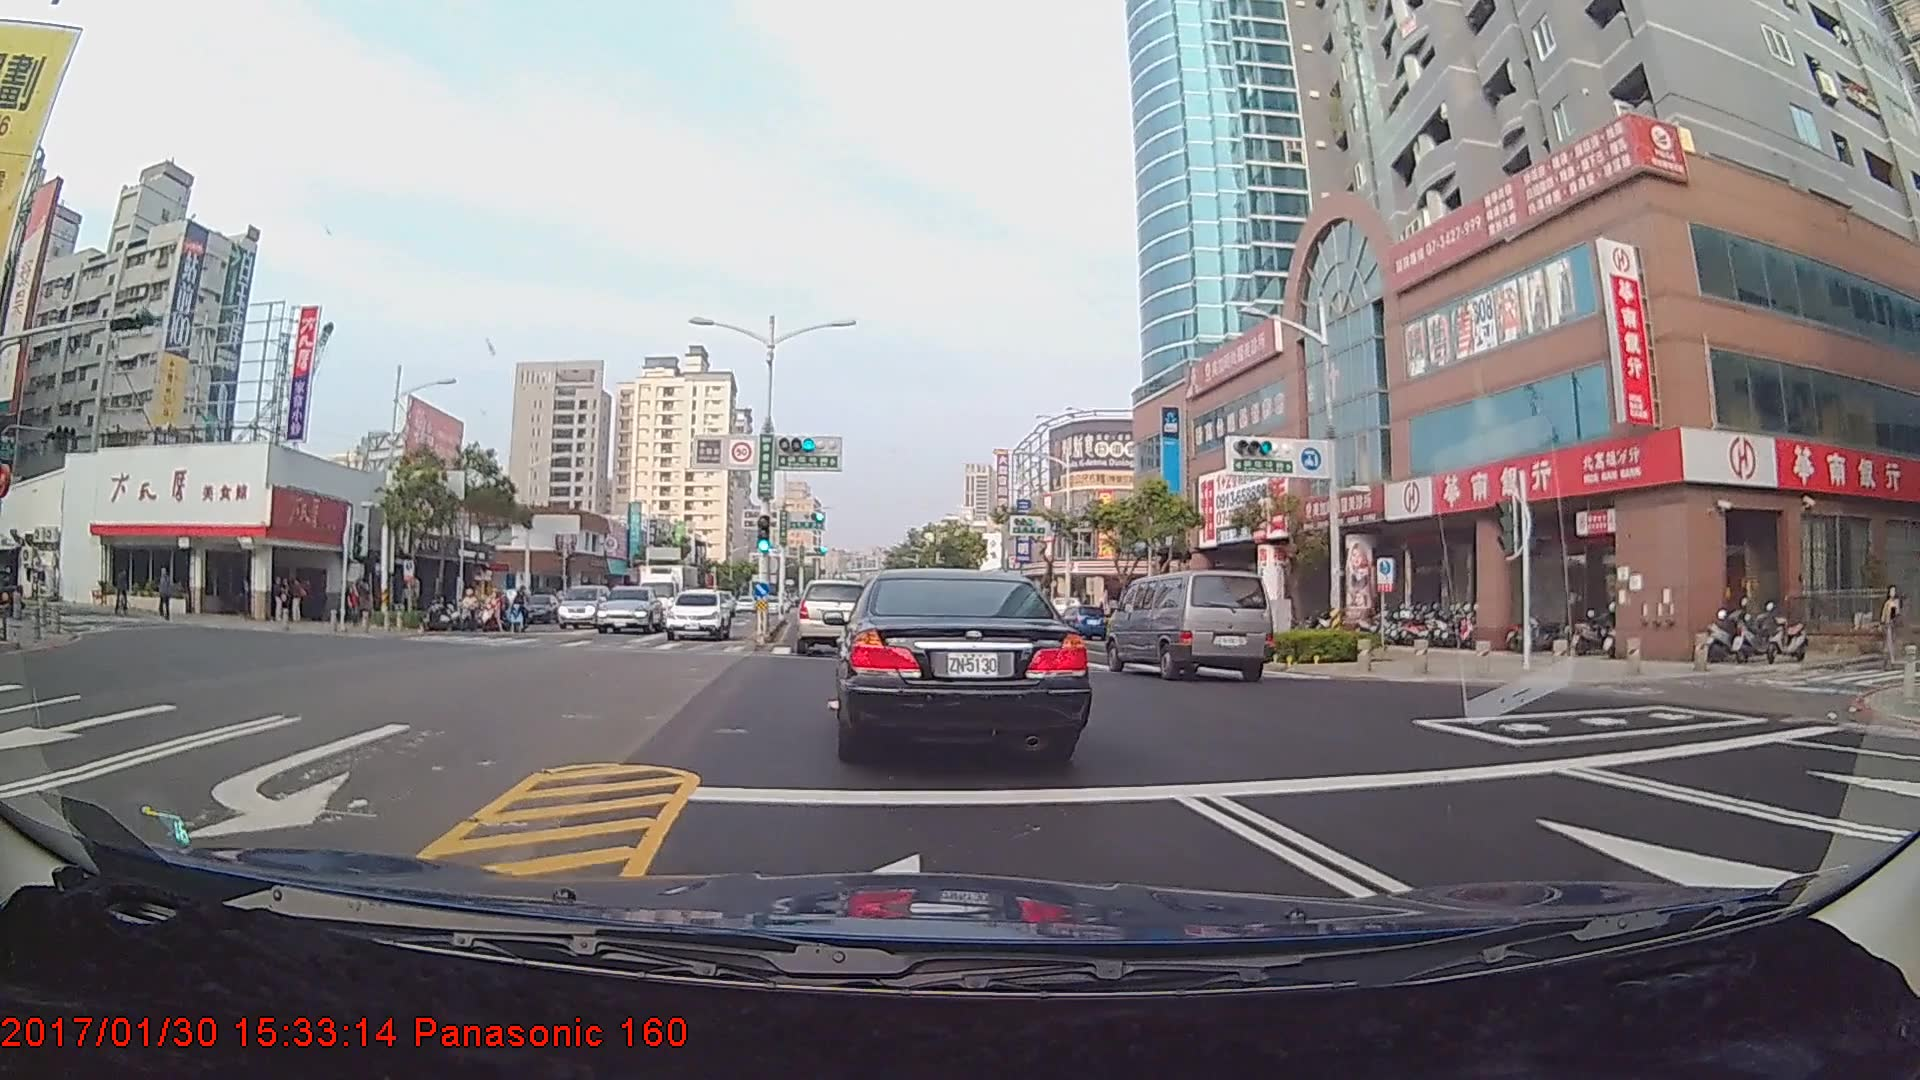pedestrian: (1879, 587, 1906, 663), (153, 569, 174, 621), (274, 575, 294, 626), (289, 577, 309, 625)
vehicle: (835, 564, 1083, 761), (1110, 569, 1270, 681), (797, 578, 874, 656), (640, 557, 705, 630), (664, 588, 733, 641), (595, 585, 665, 635), (558, 582, 612, 627), (1052, 602, 1103, 642)
